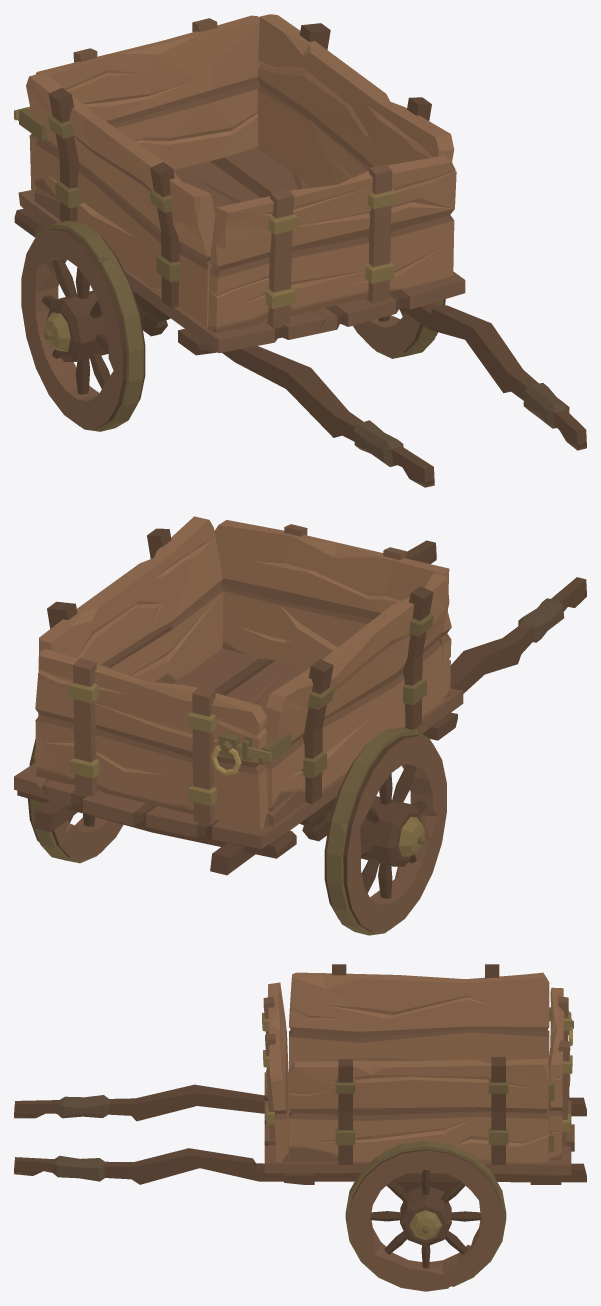
The model's file is elven_SM_Veh_Cart_02.gltf.
3 renders of one model, top to bottom at view 1: azimuth 30°, elevation 25°; view 2: azimuth 150°, elevation 25°; view 3: azimuth 270°, elevation 25°, orthographic. The views are drawn at different scales.
Parts seen in each view (by area): view 1: SM_Veh_Cart_02; view 2: SM_Veh_Cart_02, SM_Veh_Cart_02_Lock_01; view 3: SM_Veh_Cart_02.
Part boxes in pixels (x1,y1,x2,y2): SM_Veh_Cart_02: [14, 14, 586, 487]; SM_Veh_Cart_02: [14, 516, 586, 935]; SM_Veh_Cart_02_Lock_01: [211, 740, 271, 775]; SM_Veh_Cart_02: [14, 964, 586, 1291].
Bounding box in the file's own units: 1.85 × 1.36 × 3.19.
1 material, 1 textured.
